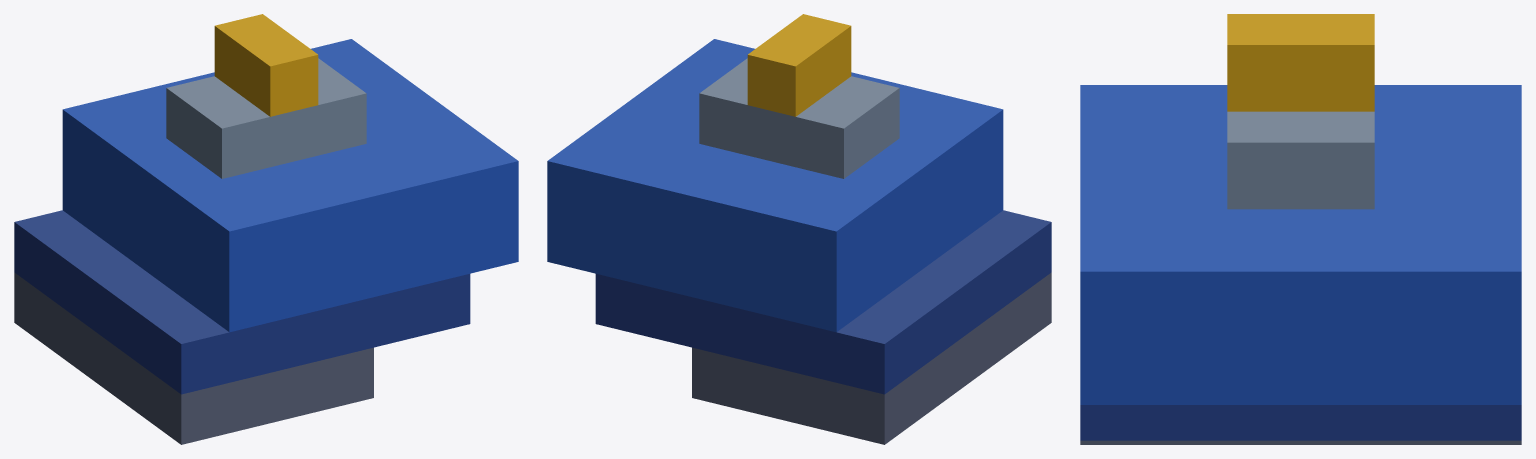
Rendered from Knight_Pauldron.glb.
3 views of the same model, side by side, from view 1: azimuth 30°, elevation 25°; view 2: azimuth 150°, elevation 25°; view 3: azimuth 270°, elevation 25° (orthographic). The views are drawn at different scales.
Visible parts, largest first — view 1: Knight_Pauldron; view 2: Knight_Pauldron; view 3: Knight_Pauldron.
Part boxes in pixels (x1,y1,x2,y2): Knight_Pauldron: [14, 14, 518, 444]; Knight_Pauldron: [547, 14, 1051, 444]; Knight_Pauldron: [1080, 14, 1521, 444].
Size of the model in its own units: 1.75 by 1.5 by 1.5.
